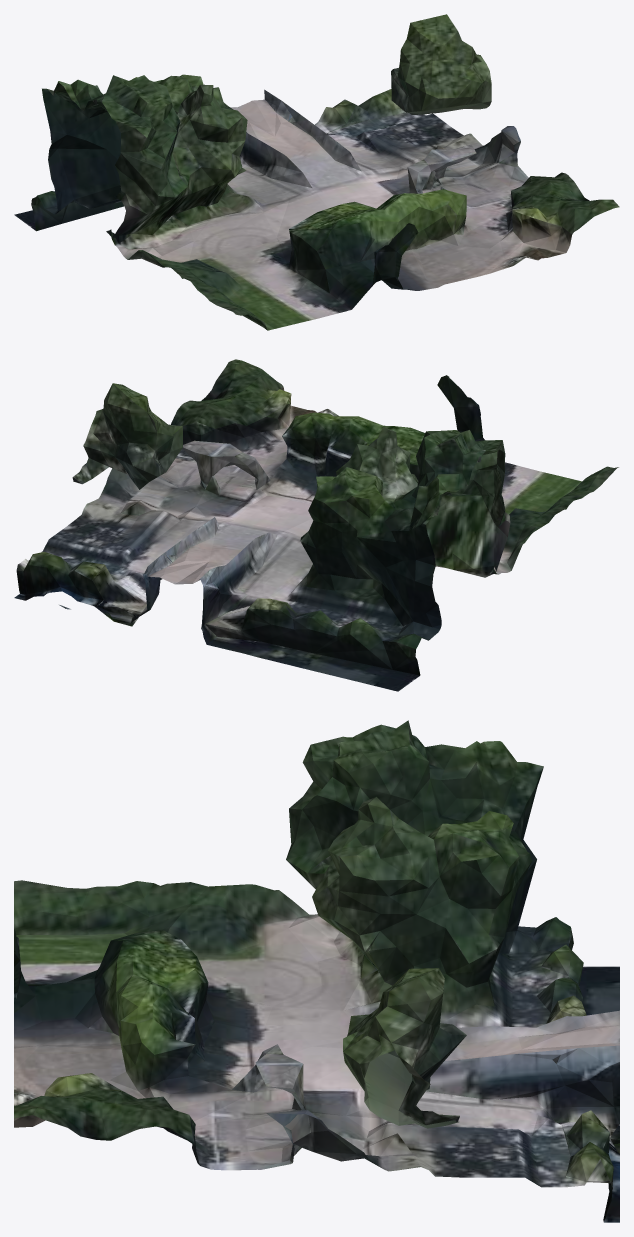
The model's file is helsinki-5-2.glb.
The picture shows the model from 3 angles, top to bottom: view 1: azimuth 30°, elevation 25°; view 2: azimuth 150°, elevation 25°; view 3: azimuth 270°, elevation 25°; orthographic projection. The views are drawn at different scales.
Size of the model in its own units: 31.75 by 15.1 by 31.75.
1 material, 1 textured.
